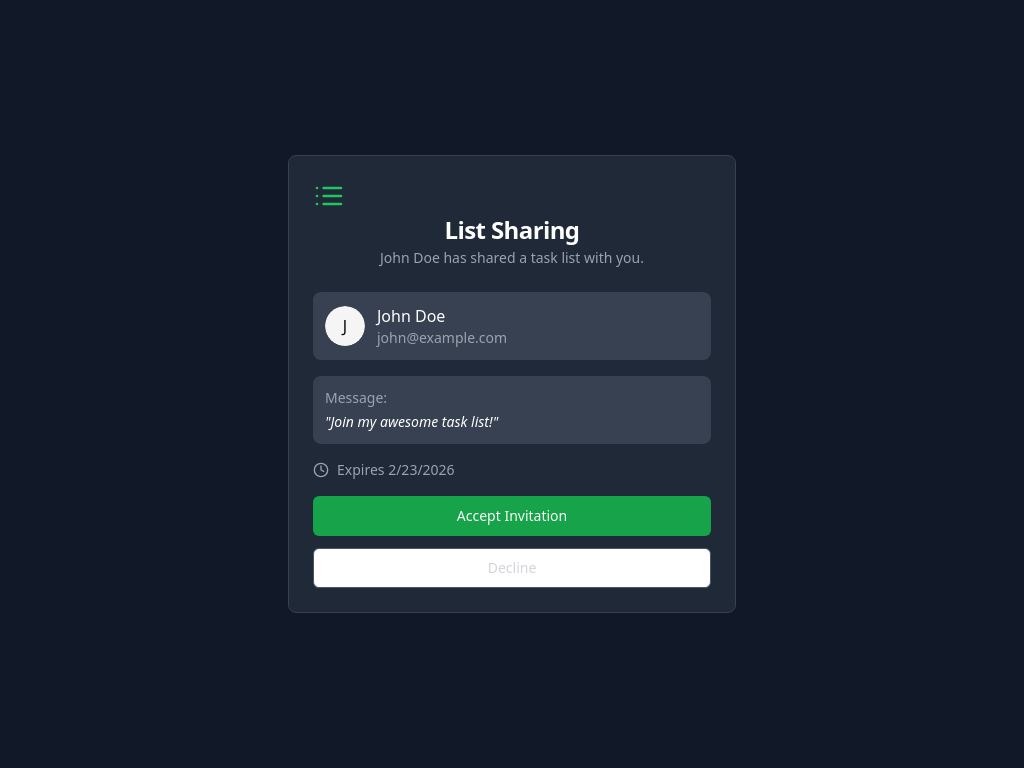
Test: InvitePage › User Actions › shows success state after accepting invitation
Step 1. Click the button "Accept Invitation" → (512,516), box x1=313 y1=496 x2=711 y2=536
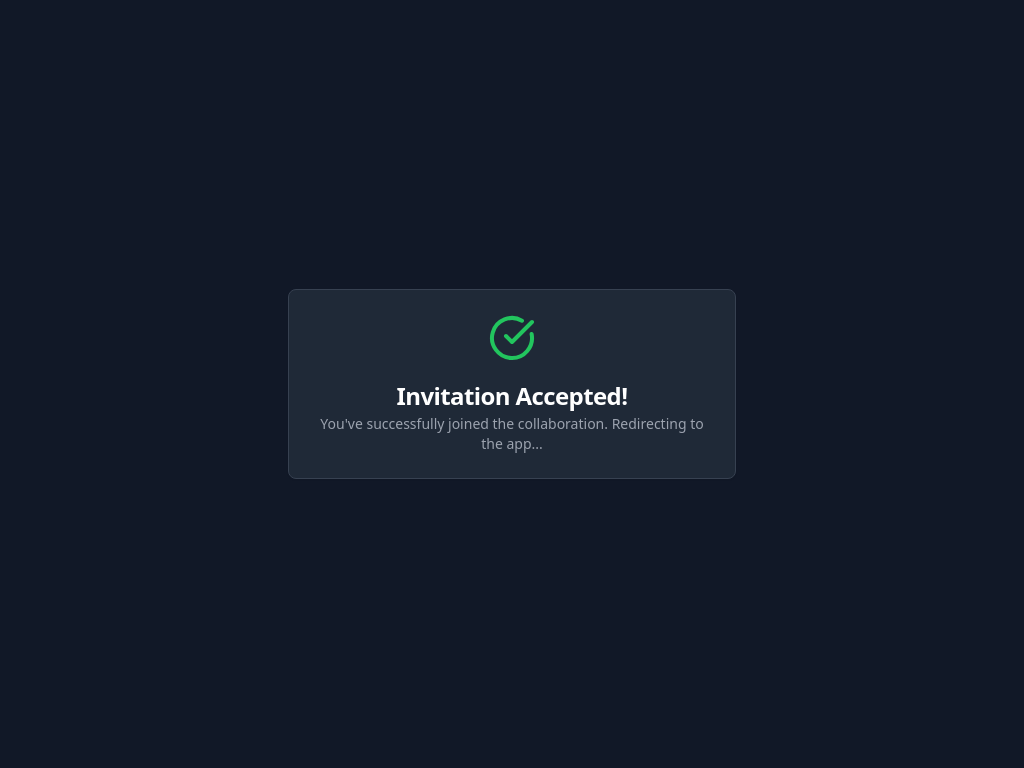
Check: the text "Invitation Accepted!" is shown, box x1=397 y1=379 x2=628 y2=412
Check: the text "You've successfully joined the collaboration. Redirecting to the app..." is shown, box x1=313 y1=414 x2=711 y2=454
